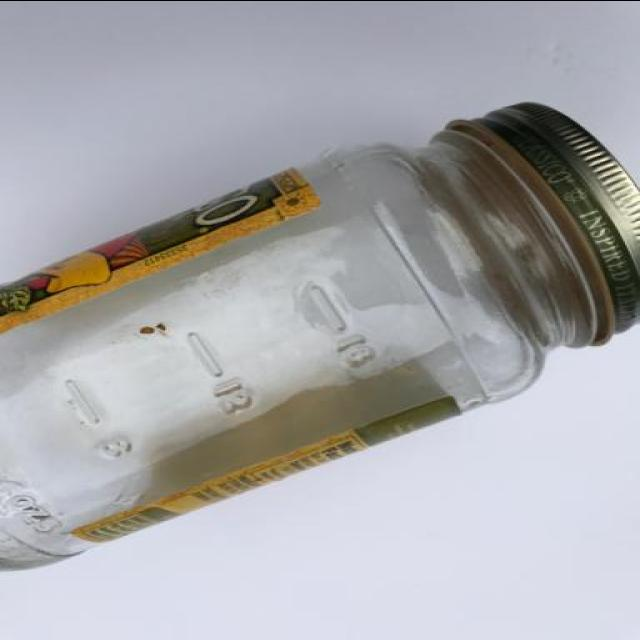litter: (1, 98, 640, 577)
